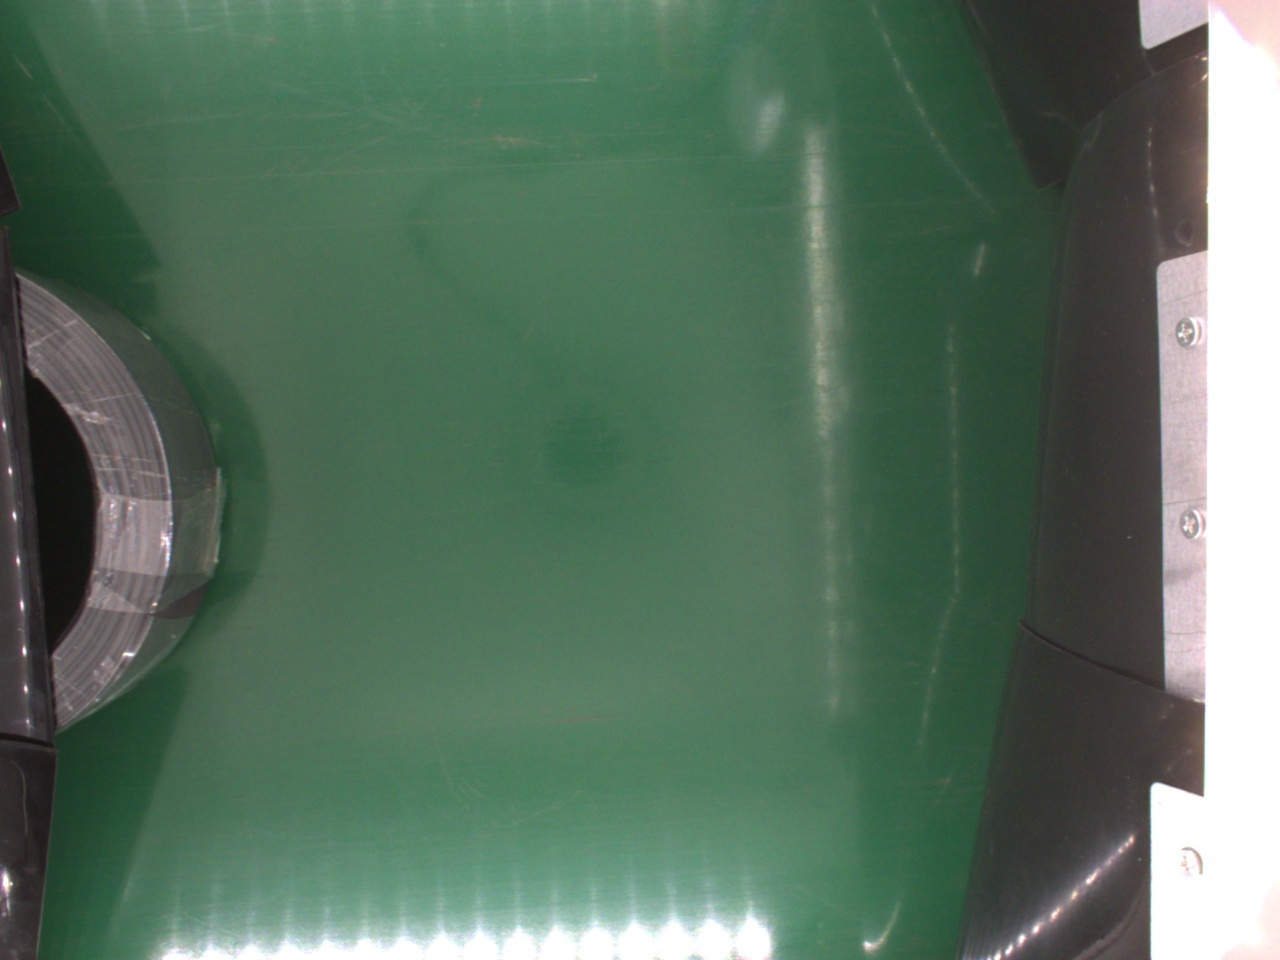black: (15, 273, 218, 724)
